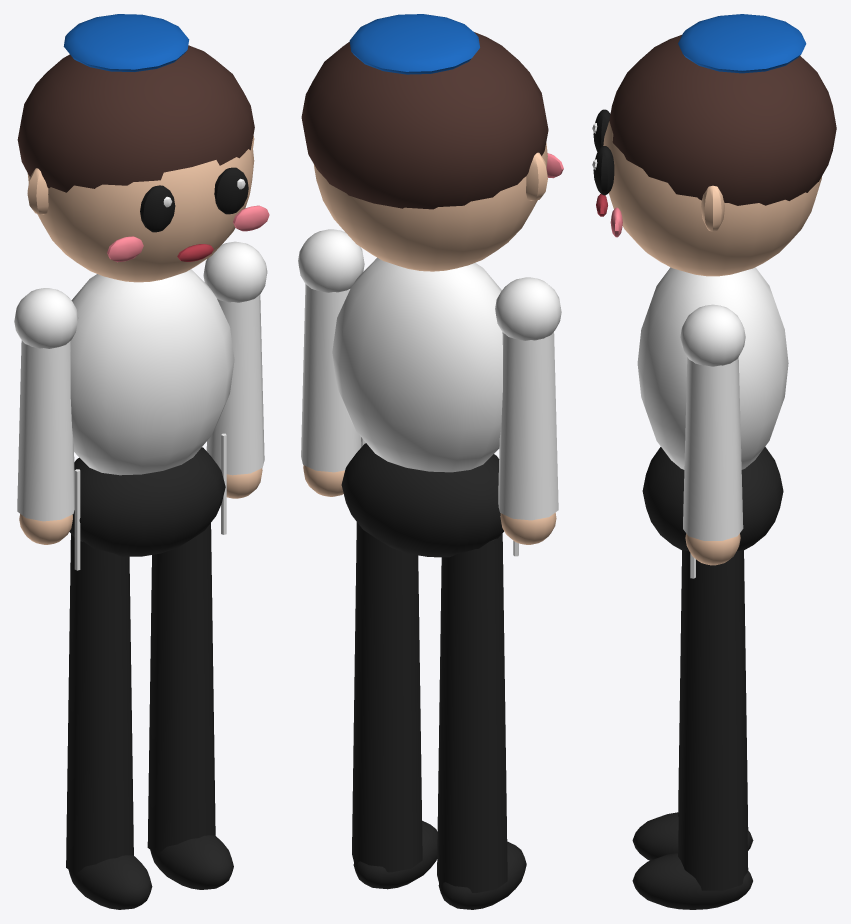
Rendered from homes_boy.glb.
3 renders of one model, left to right at view 1: azimuth 30°, elevation 25°; view 2: azimuth 150°, elevation 25°; view 3: azimuth 270°, elevation 25°, orthographic. The views are drawn at different scales.
Parts seen in each view (by area): view 1: Body.003, Leg_R.003, Leg_L.003, Arm_R.003, Arm_L.003; view 2: Body.003, Leg_R.003, Leg_L.003, Arm_R.003, Arm_L.003; view 3: Body.003, Leg_L.003, Arm_L.003, Leg_R.003.
Part boxes in pixels (box(x1,y1,x2,y2)): Body.003: box(17, 14, 269, 570); Leg_R.003: box(66, 534, 152, 909); Leg_L.003: box(147, 523, 233, 889); Arm_R.003: box(14, 288, 78, 544); Arm_L.003: box(203, 241, 267, 498); Body.003: box(301, 14, 563, 557); Leg_R.003: box(437, 533, 526, 909); Leg_L.003: box(352, 522, 437, 889); Arm_R.003: box(495, 277, 561, 544); Arm_L.003: box(298, 229, 364, 496); Body.003: box(592, 14, 836, 578); Leg_L.003: box(632, 550, 752, 909); Arm_L.003: box(680, 304, 745, 565); Leg_R.003: box(632, 550, 753, 860).
Bounding box in the file's own units: 0.4152 × 1.36 × 0.3538.
